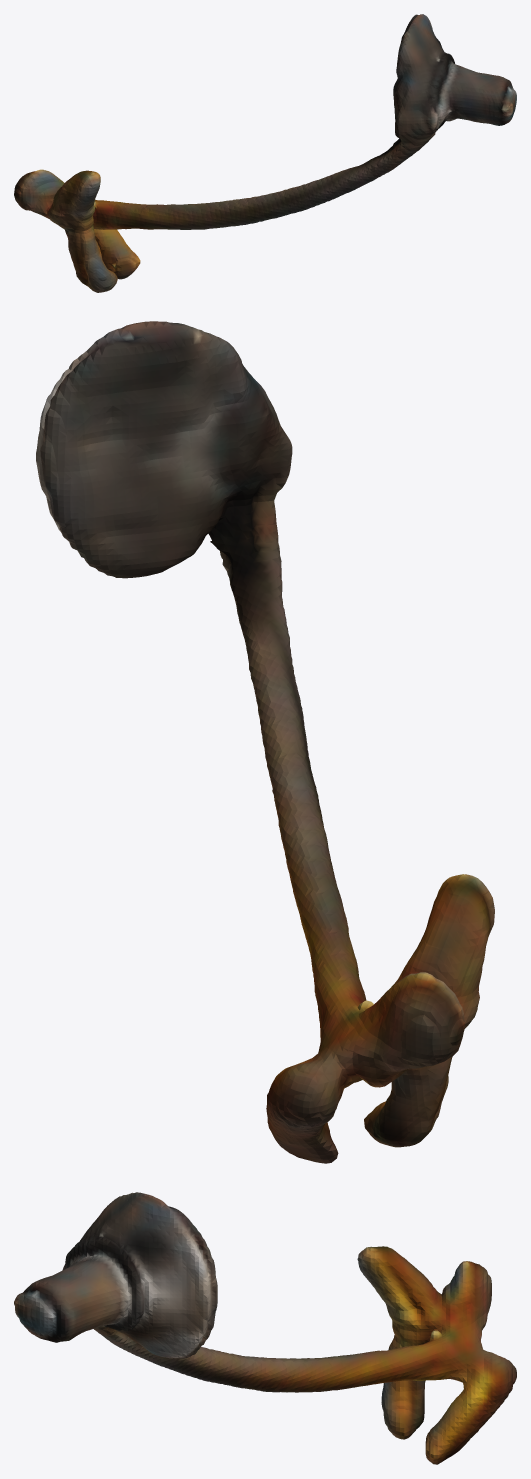
3 views of the same model, one above another, from view 1: azimuth 30°, elevation 25°; view 2: azimuth 150°, elevation 25°; view 3: azimuth 270°, elevation 25° (orthographic). The views are drawn at different scales.
Bounding box in the file's own units: 0.8481 × 0.6939 × 0.8198.
